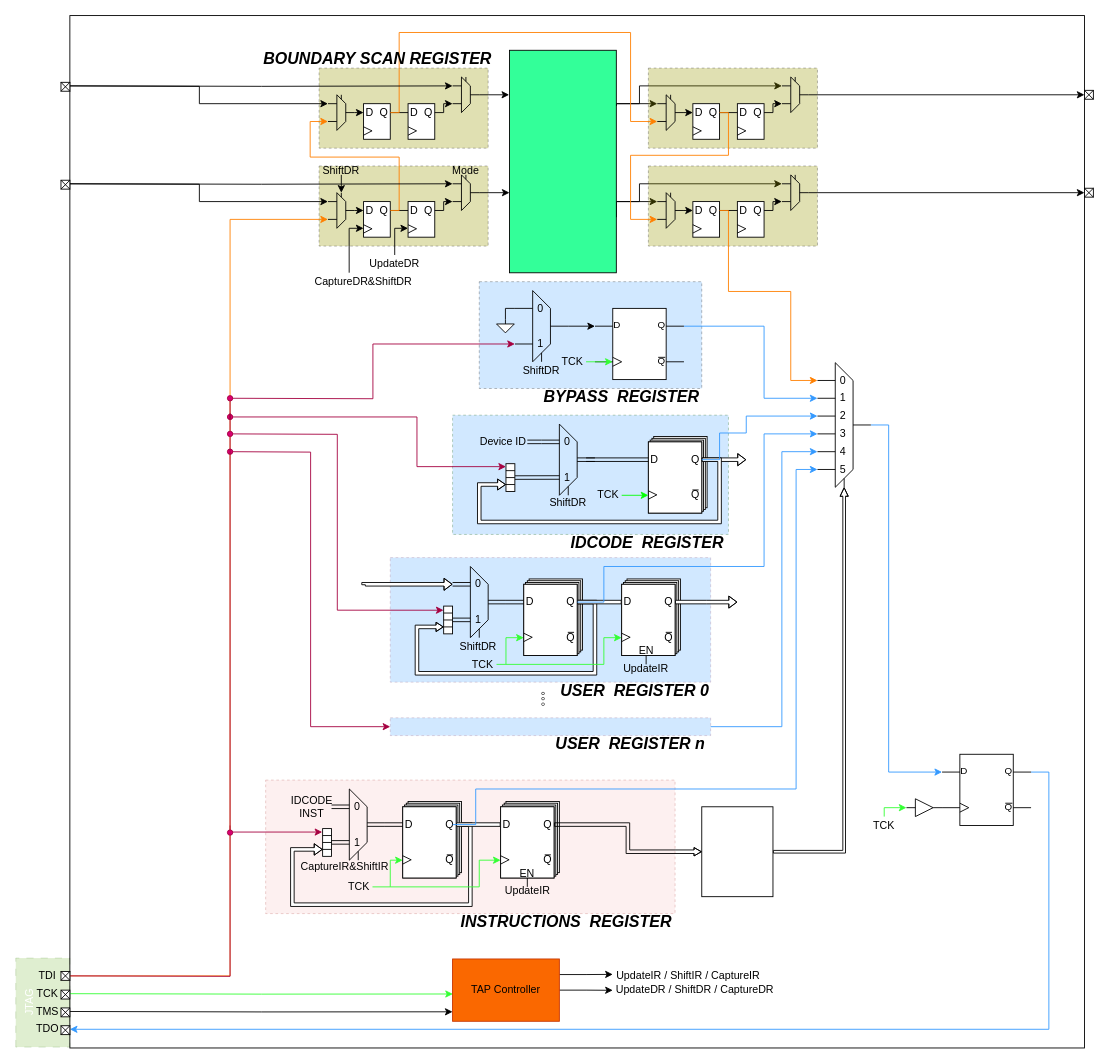
Image size: 1110x1064. Some labels were removed from this diagram. The shapes that lost their labels are listed below. From the top down, each one's centre as x and y in pixels, then its label:
At point (562, 161): "CORE LOGIC".
At point (737, 851): "Instruction Decoder".
